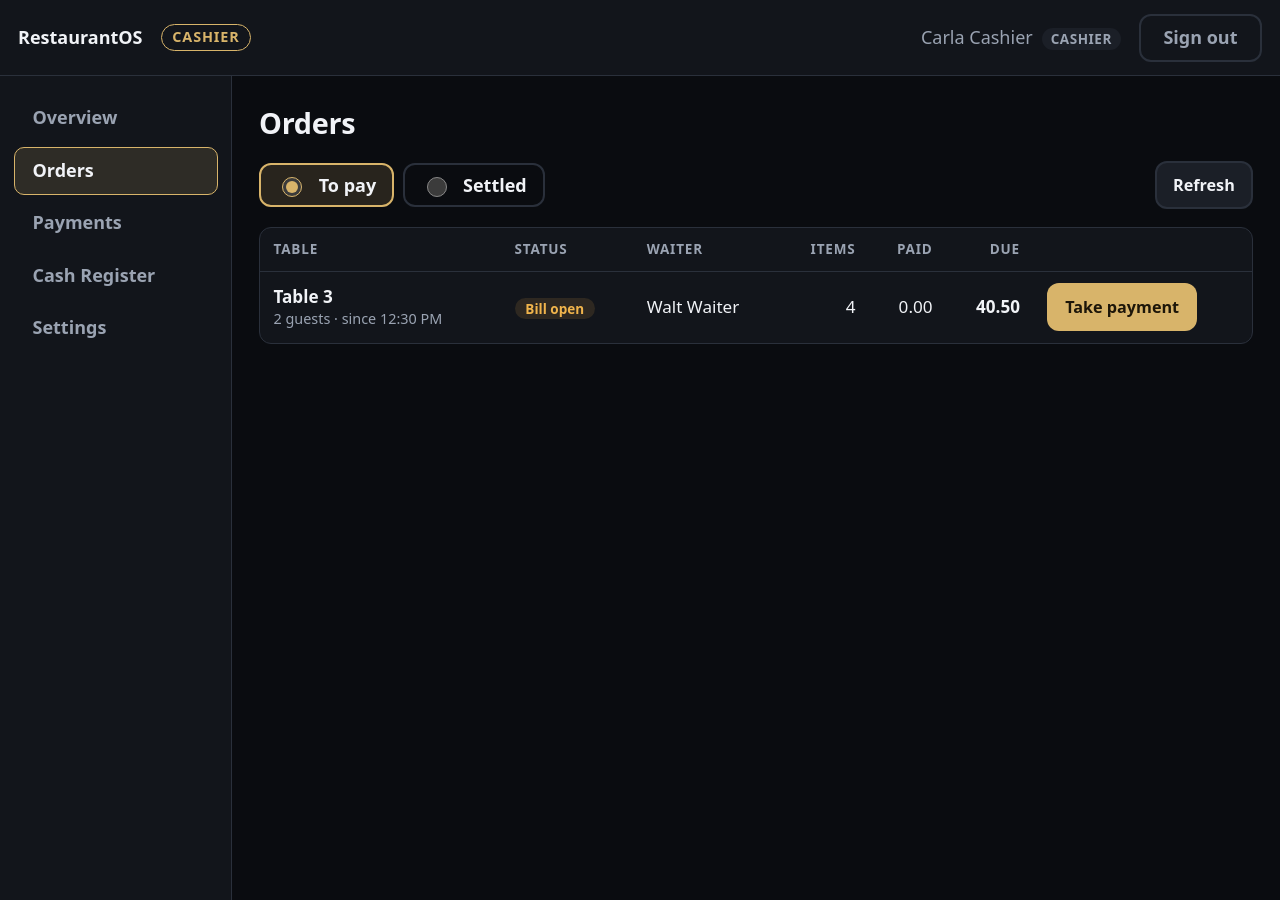
Test: cash payment › records the amount due, shows change worked out locally, and the bill turns paid
Click the button with aria-label "Take payment: Table 3".
click(1122, 307)  # box top-left (1047, 283), bottom-right (1197, 331)
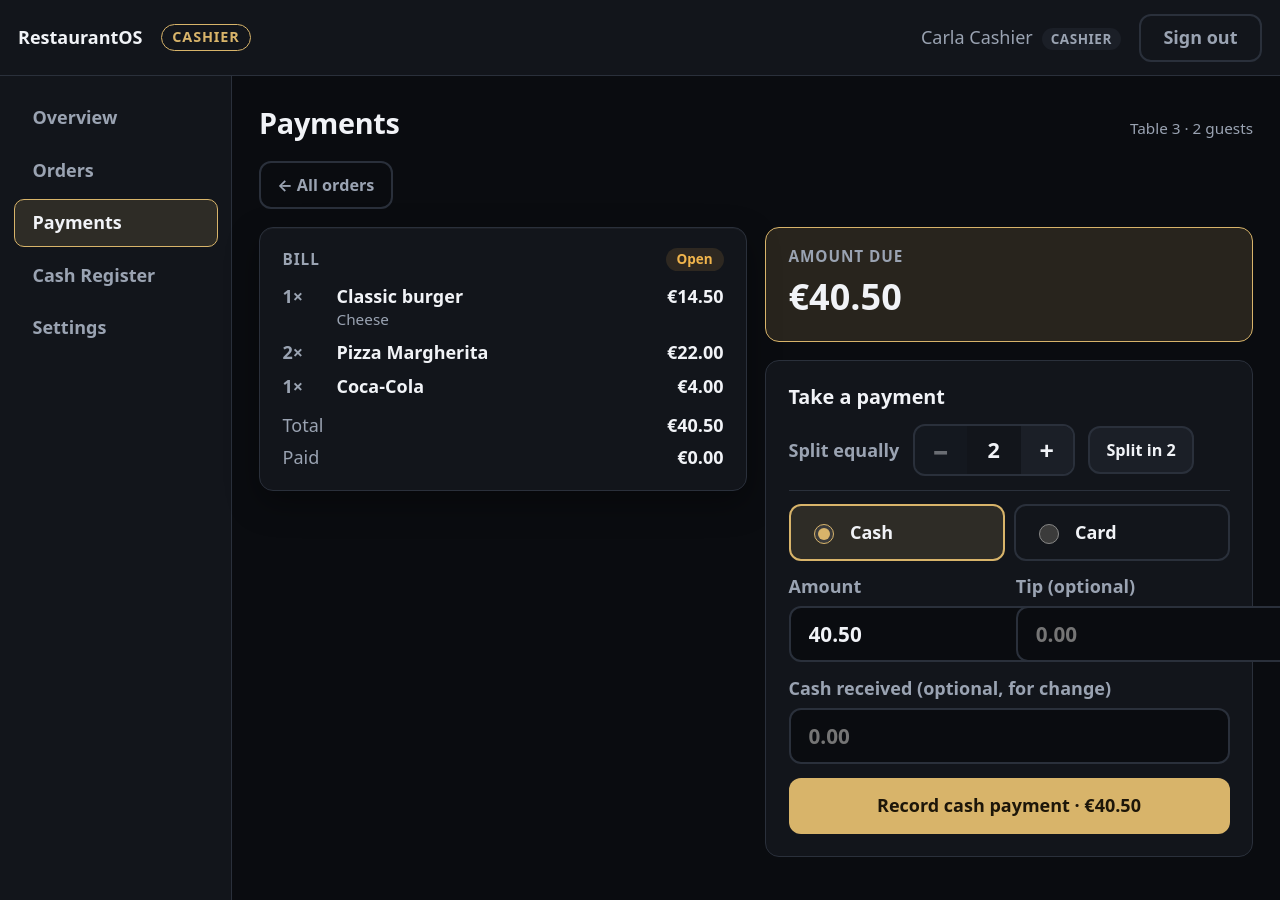
Now the field labelled "Amount" holds "40.50", box top-left (788, 606), bottom-right (1146, 662)
Type "50" into the field labelled "Cash received (optional, for change)".
click(1009, 736); type("50")  # box top-left (788, 708), bottom-right (1230, 764)
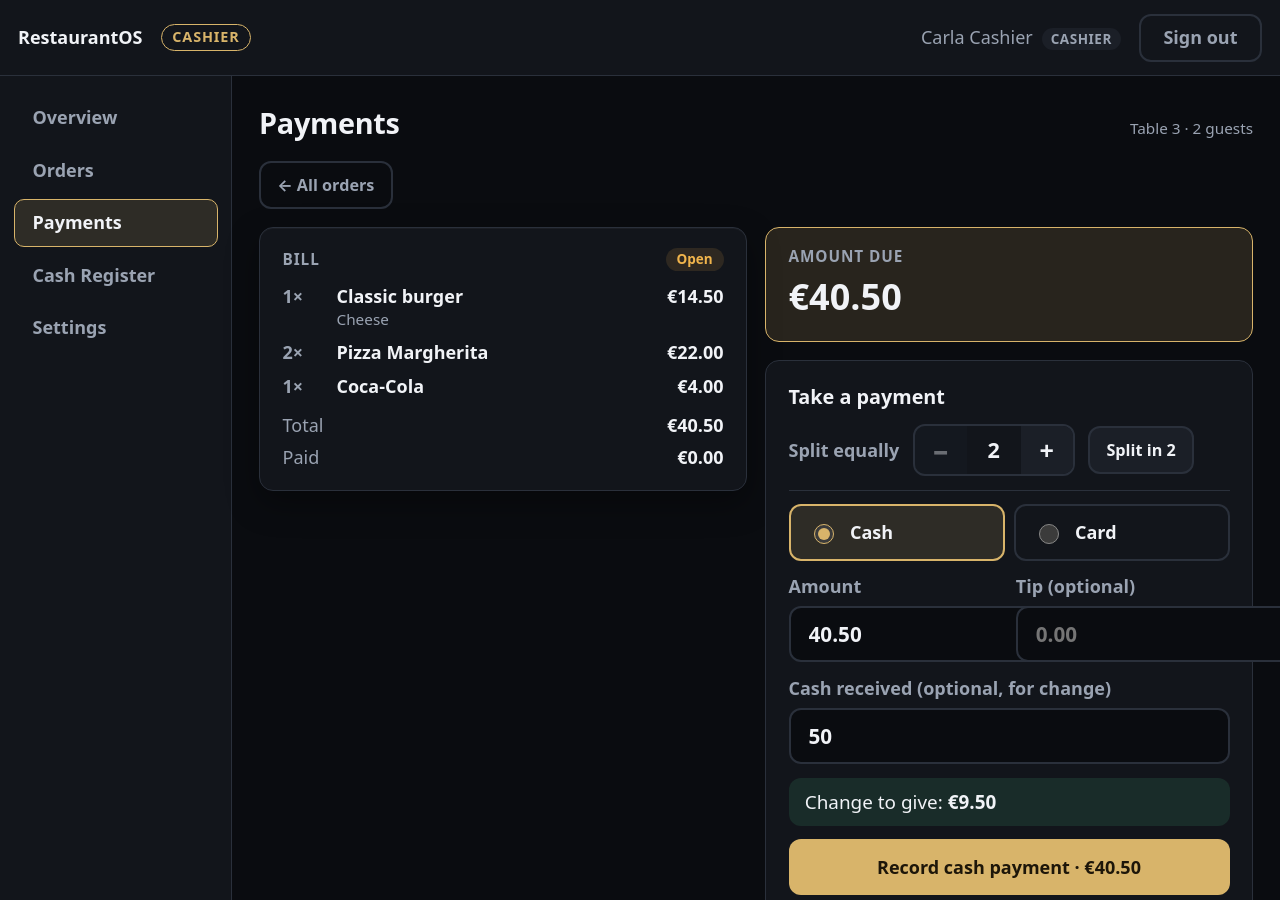
Click the button "Record cash payment · €40.50".
click(1009, 867)  # box top-left (788, 839), bottom-right (1230, 895)
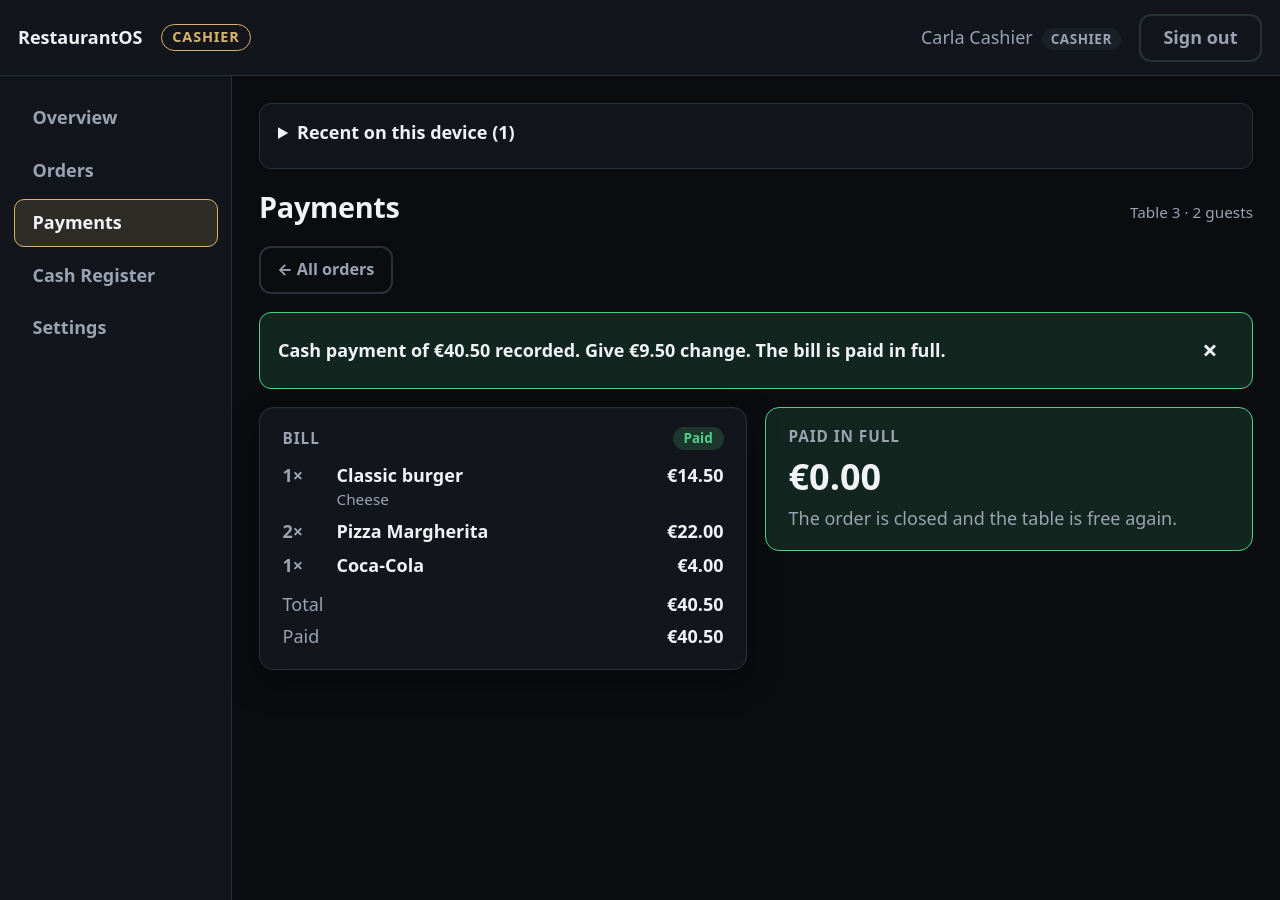
Now the text "The bill is paid in full." is shown, box top-left (278, 338), bottom-right (946, 362)
Now the message named "Amount due" shows "Paid in full", box top-left (788, 426), bottom-right (900, 446)
Now the heading "Take a payment" is gone
